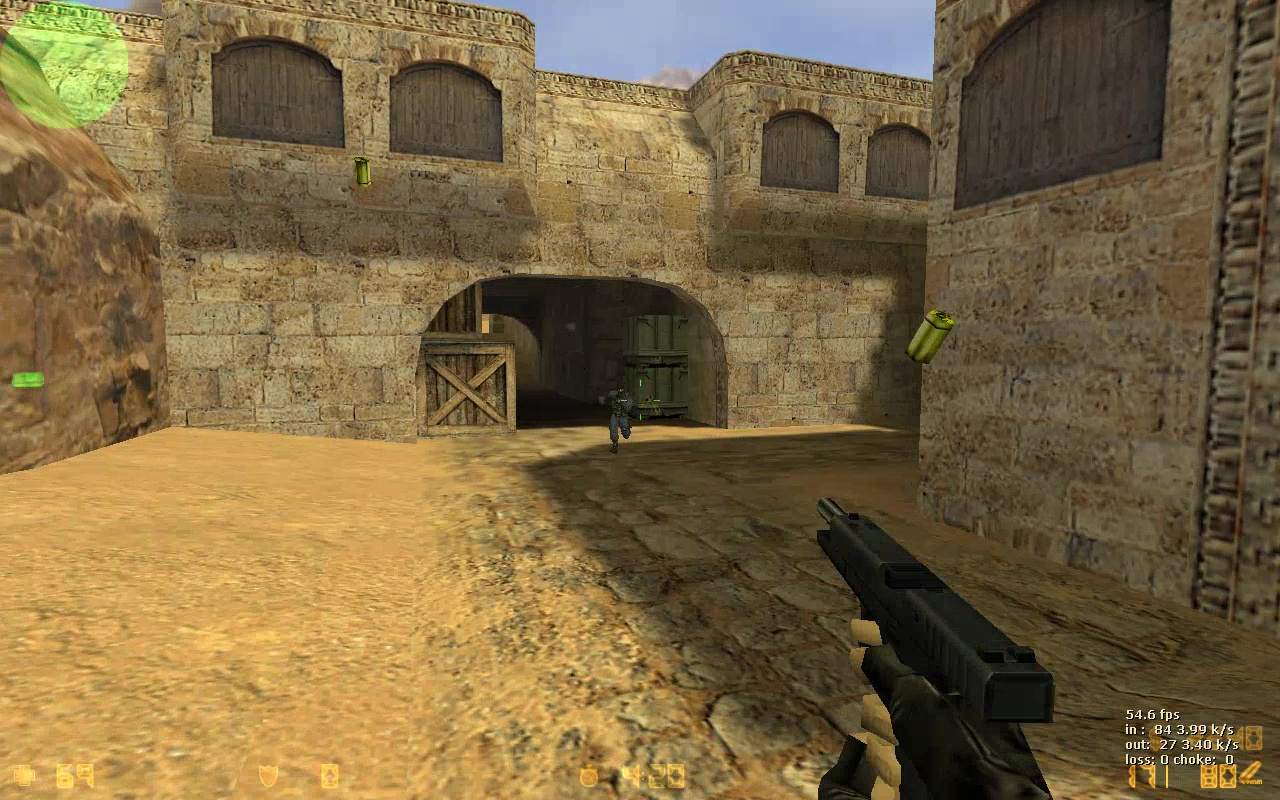ct: (601, 386, 635, 456)
